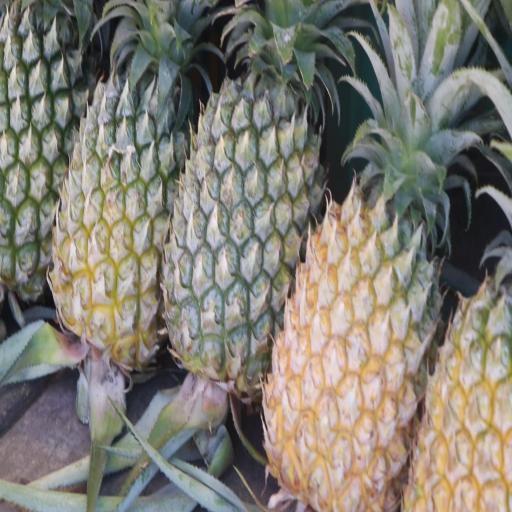------------------------------: (45, 0, 194, 385)
Pineapple - v8 v1: (258, 26, 451, 504)
